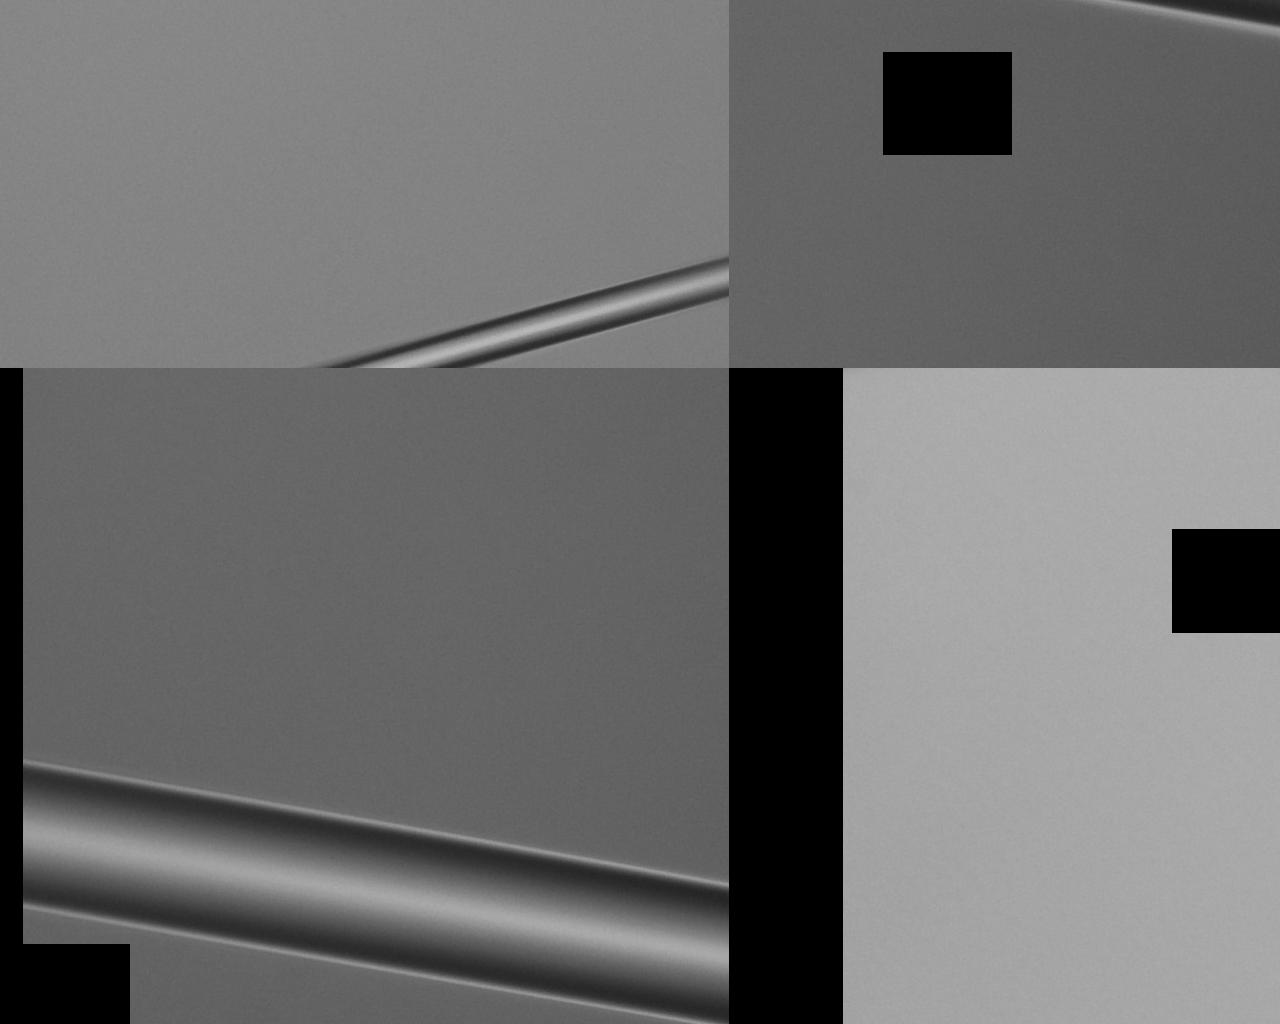fiber: (637, 0, 744, 1024)
